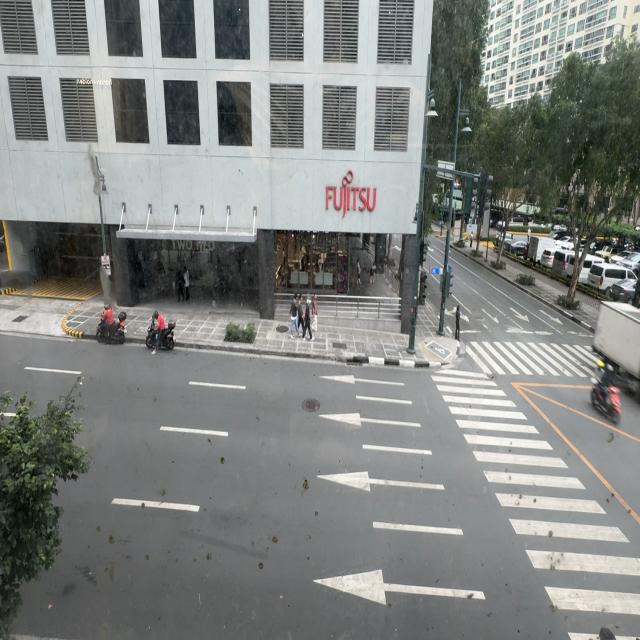waiting: (455, 305, 461, 341)
